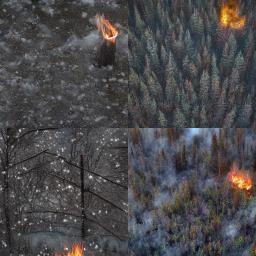Small fire: (217, 1, 249, 30), (227, 162, 254, 193), (95, 15, 120, 43), (50, 239, 86, 256)
